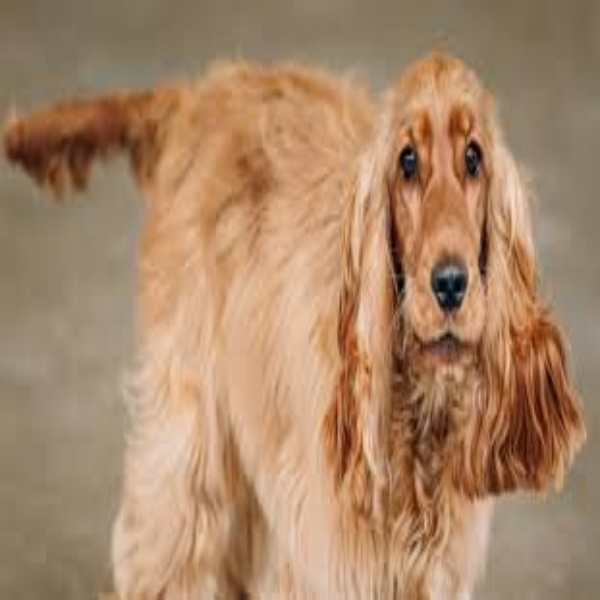dog: (1, 42, 582, 600)
